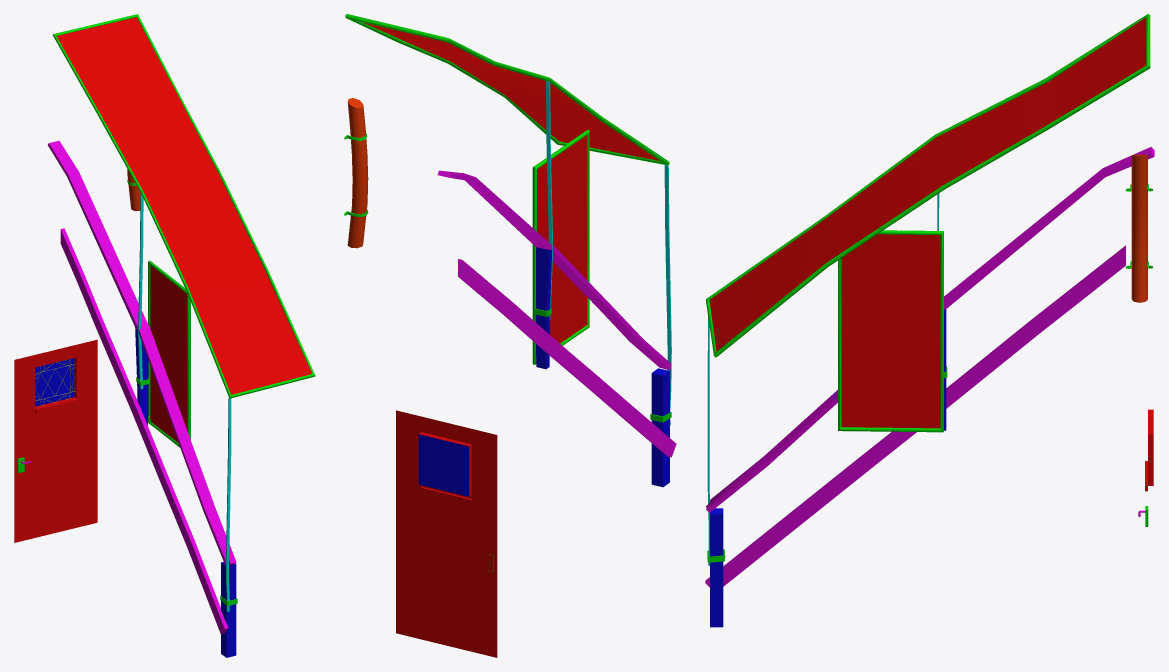
Rendered from Stairs Supports and Door SINGLEMESH.fbx.
3 renders of one model, left to right at view 1: azimuth 30°, elevation 25°; view 2: azimuth 150°, elevation 25°; view 3: azimuth 270°, elevation 25°, orthographic. The views are drawn at different scales.
Visible parts, largest first — view 1: VinesOverStairsHolder, GalponDoor, HandRainStairs; view 2: GalponDoor, VinesOverStairsHolder, HandRainStairs; view 3: VinesOverStairsHolder, HandRainStairs, GalponDoor.
Part boxes in pixels (box(x1,y1,x2,y2)): VinesOverStairsHolder: box(52, 14, 315, 447); GalponDoor: box(14, 339, 97, 542); HandRainStairs: box(48, 140, 237, 657); GalponDoor: box(396, 410, 497, 657); VinesOverStairsHolder: box(345, 14, 669, 364); HandRainStairs: box(344, 81, 676, 487); VinesOverStairsHolder: box(706, 14, 1150, 432); HandRainStairs: box(705, 147, 1154, 627); GalponDoor: box(1138, 409, 1153, 526).
Size of the model in its own units: 184 by 697 by 460.
